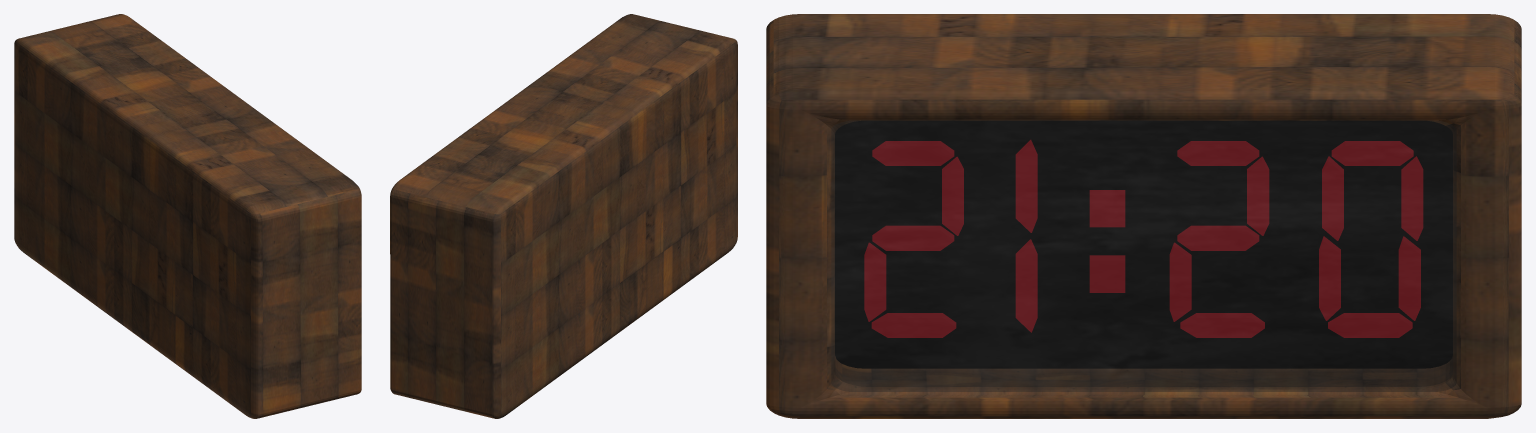
Rendered from old_digital_clock.glb.
3 renders of one model, left to right at view 1: azimuth 30°, elevation 25°; view 2: azimuth 150°, elevation 25°; view 3: azimuth 270°, elevation 25°, orthographic. The views are drawn at different scales.
Visible parts, largest first — view 1: Cube_3; view 2: Cube_3; view 3: Cube.006_1, Cube_3, Cube.003_0, Cube.004_6.
Boxes of the visible parts, x1=… form: Cube_3: x1=14, y1=14, x2=361, y2=418; Cube_3: x1=390, y1=14, x2=737, y2=418; Cube.006_1: x1=831, y1=120, x2=1456, y2=391; Cube_3: x1=766, y1=14, x2=1521, y2=418; Cube.003_0: x1=835, y1=121, x2=1452, y2=368; Cube.004_6: x1=864, y1=140, x2=1422, y2=337.
Size of what is drawn, in the model's own units: 1.77 by 3.19 by 6.67.
Materials: 4 (2 with a texture image).
